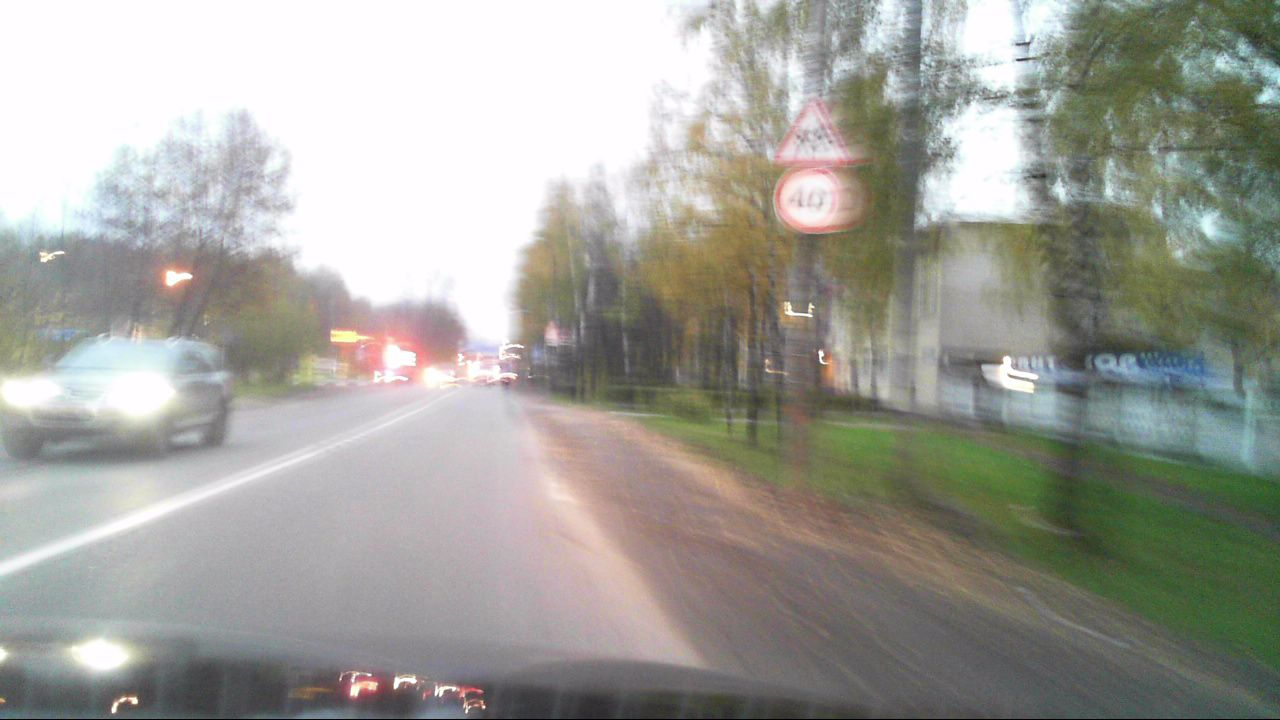speed_warning_40: (775, 168, 840, 233)
